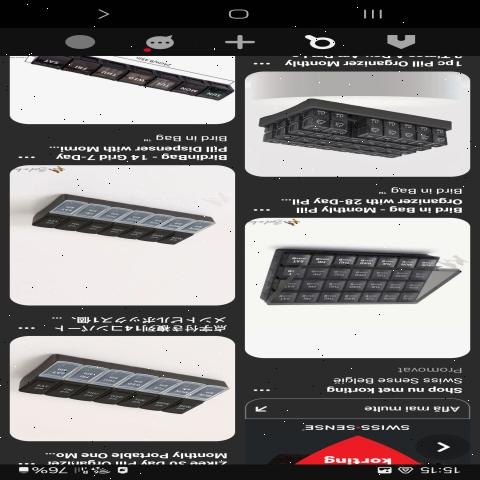PillBox: (258, 234, 462, 324), (16, 340, 227, 426), (21, 182, 211, 262)
